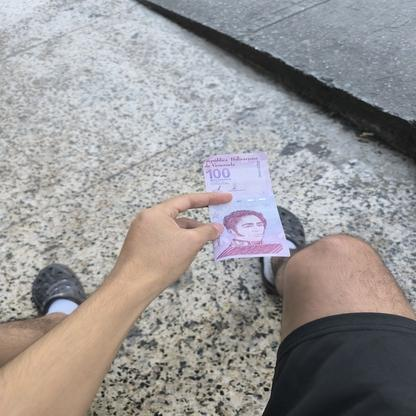one_hundred-front-vef: (203, 151, 290, 263)
